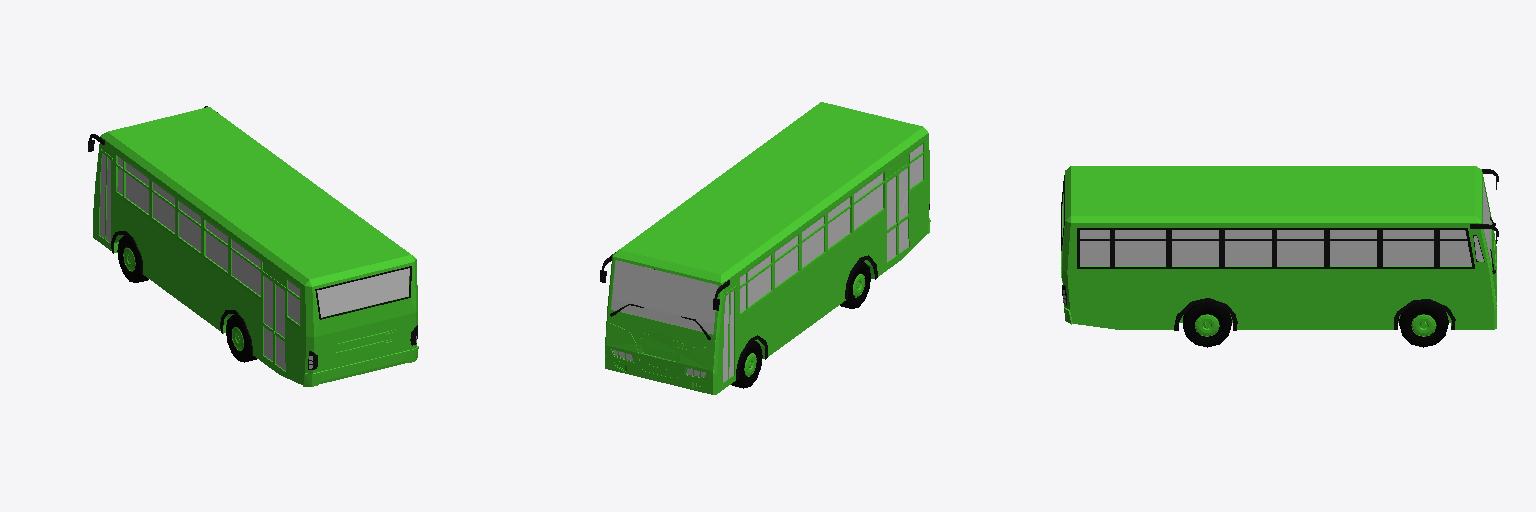
File: bus.obj
The picture shows the model from 3 angles: view 1: azimuth 30°, elevation 25°; view 2: azimuth 150°, elevation 25°; view 3: azimuth 270°, elevation 25°; orthographic projection.
Parts seen in each view (by area): view 1: DriverPanel.001_Cube.004, DriverPanel.005_Cube.010, Circle; view 2: DriverPanel.001_Cube.004, DriverPanel.002_Cube.012, FrontGlass_Cube.013, Circle; view 3: DriverPanel.001_Cube.004, Circle, Tyre-b_Cube.005.
Boxes of the visible parts, box(x1,y1,x2,y2) form: DriverPanel.001_Cube.004: box(93, 107, 417, 384); DriverPanel.005_Cube.010: box(303, 311, 418, 386); Circle: box(117, 235, 256, 362); DriverPanel.001_Cube.004: box(605, 102, 929, 394); DriverPanel.002_Cube.012: box(605, 312, 715, 394); FrontGlass_Cube.013: box(611, 260, 717, 333); Circle: box(731, 261, 870, 388); DriverPanel.001_Cube.004: box(1061, 166, 1496, 329); Circle: box(1183, 302, 1448, 347); Tyre-b_Cube.005: box(1174, 298, 1455, 330).
Size of the model in its own units: 3.2 by 3.34 by 10.16.